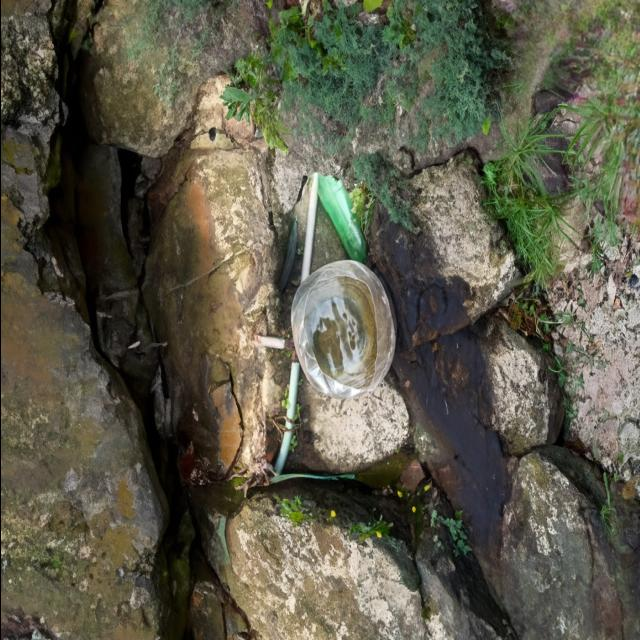Breeding Place: (65, 141, 246, 640), (267, 417, 530, 640), (275, 246, 422, 434)
